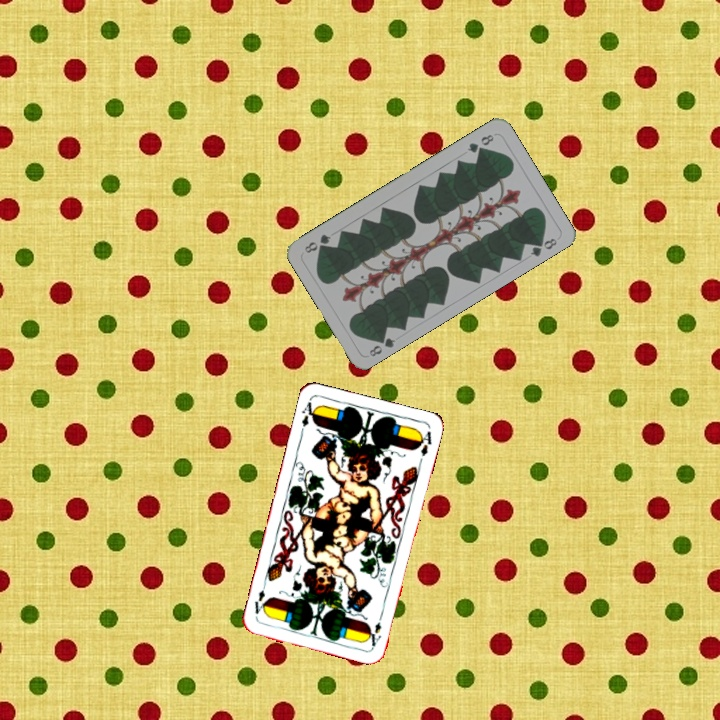EA: (297, 396, 320, 437), (364, 618, 384, 649)
G8: (365, 330, 398, 359), (463, 130, 497, 156)
